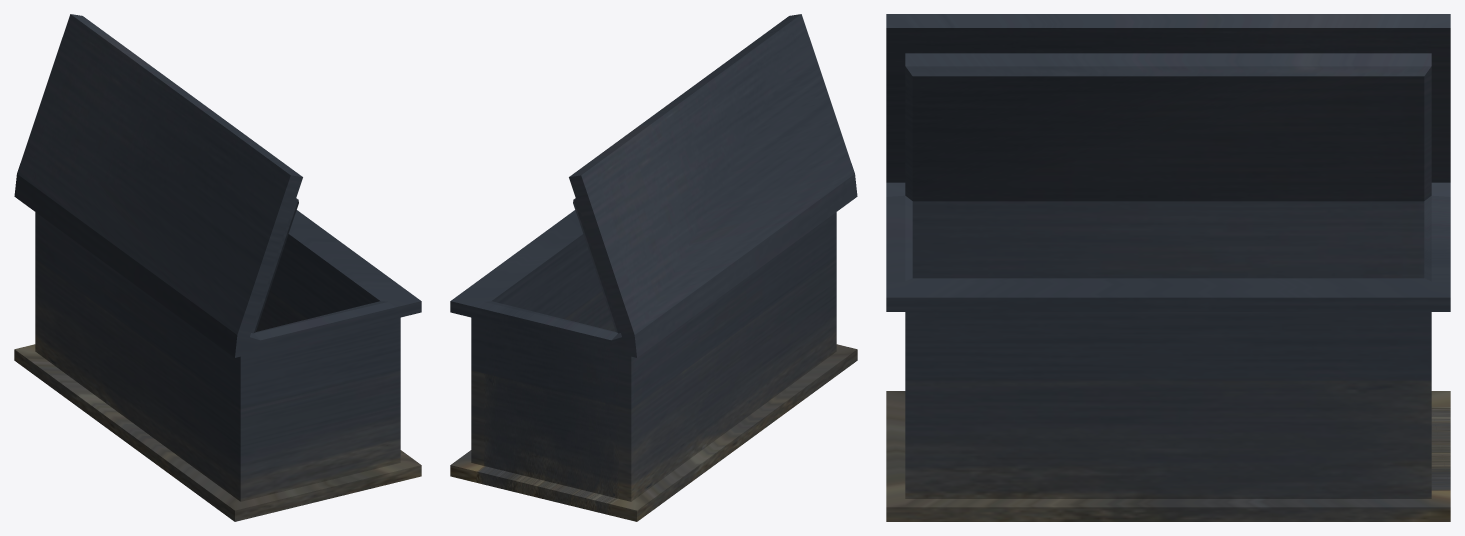
The model's file is obj_ironBox.fbx.
3 views of the same model, side by side, from view 1: azimuth 30°, elevation 25°; view 2: azimuth 150°, elevation 25°; view 3: azimuth 270°, elevation 25° (orthographic). The views are drawn at different scales.
Visible parts, largest first — view 1: pCube82; view 2: pCube82; view 3: pCube82.
Part boxes in pixels (x1,y1,x2,y2): pCube82: (14, 14, 421, 521); pCube82: (450, 14, 857, 521); pCube82: (886, 14, 1450, 521).
Size of the model in its own units: 1.08 by 1.84 by 2.21.
Materials: 1 (1 with a texture image).
